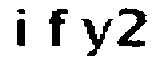2: (115, 5, 146, 51)
f: (42, 4, 70, 51)
i: (11, 4, 32, 50)
y: (79, 17, 114, 60)
